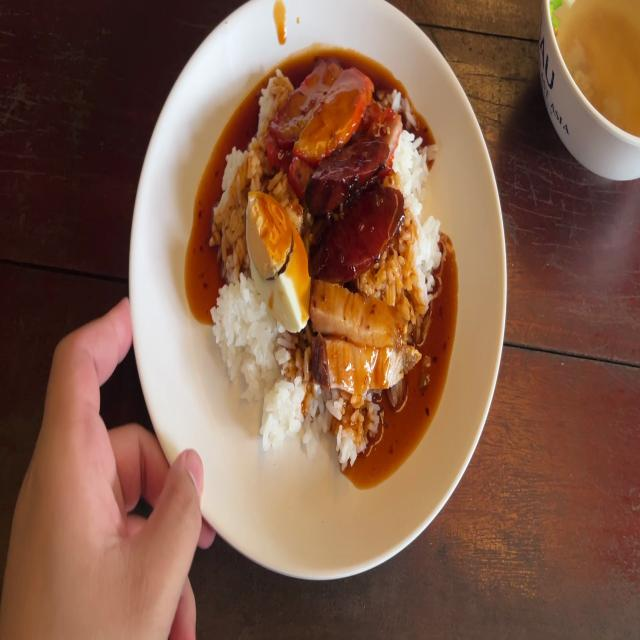01boiled_egg: (244, 192, 308, 332)
01chainese_sausage: (306, 138, 402, 278), (320, 188, 404, 278), (309, 134, 390, 215)
01crispy_pork: (312, 280, 424, 390), (317, 340, 414, 386), (313, 293, 411, 327)
01red_pork: (272, 59, 402, 194), (296, 73, 374, 158), (268, 59, 337, 142), (340, 112, 404, 141)
01red_pork_and_crispy_pork: (204, 66, 447, 464)
01rice: (396, 131, 441, 295), (210, 277, 279, 383), (218, 144, 244, 264), (258, 379, 306, 441)
